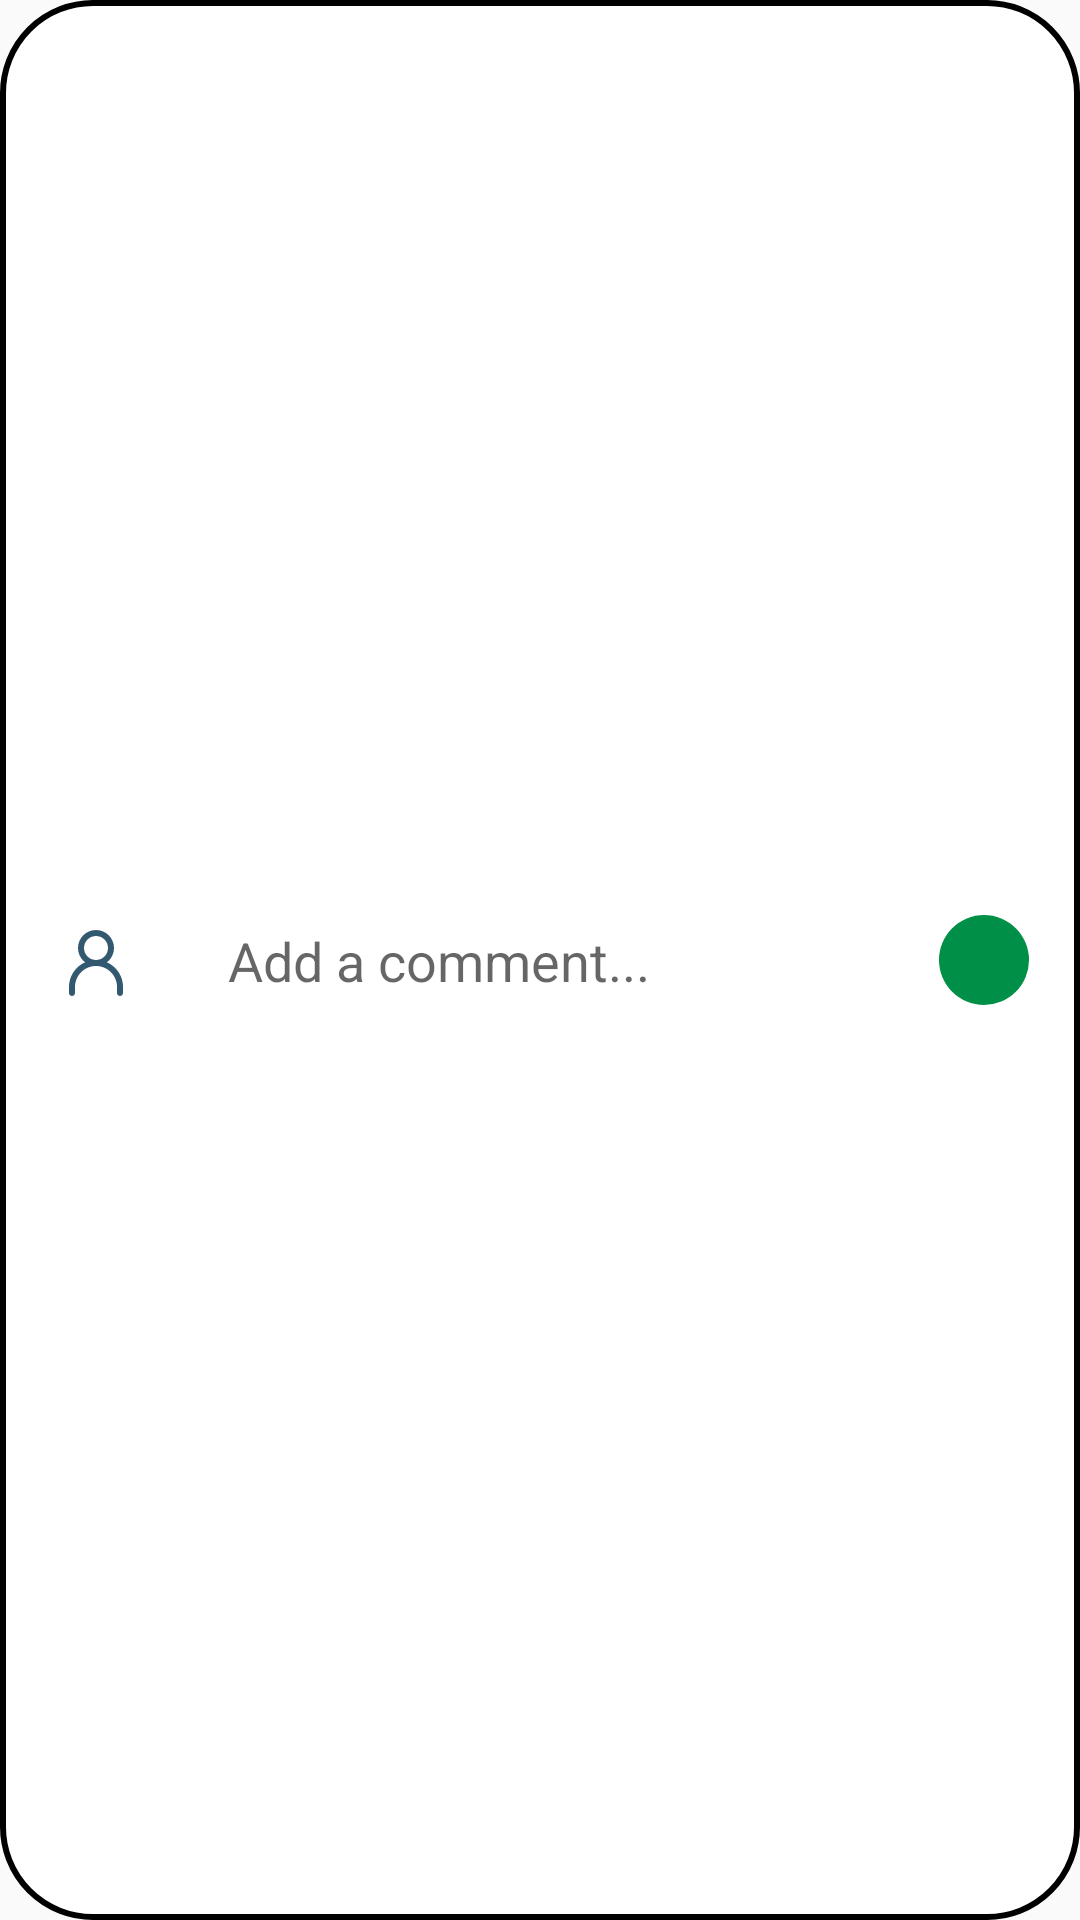

Icon click points for this 1080px×1920px phone screenshot, format (x,y):
user: (96,963)
